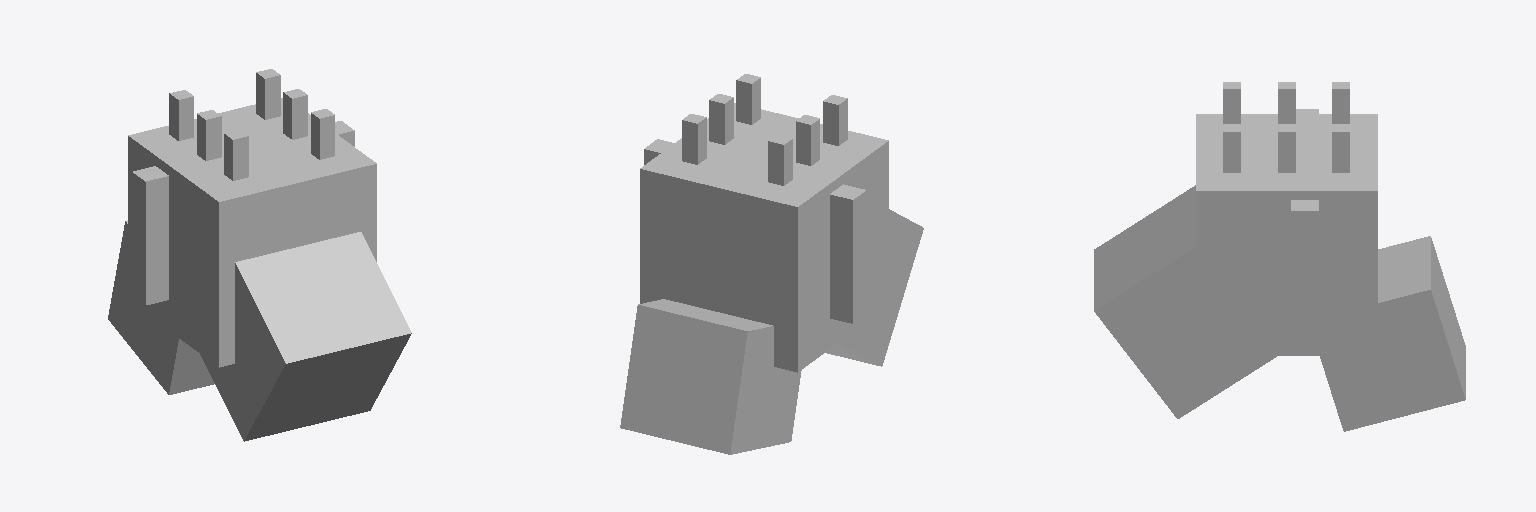
File: modelMinion.obj
3 views of the same model, side by side, from view 1: azimuth 30°, elevation 25°; view 2: azimuth 150°, elevation 25°; view 3: azimuth 270°, elevation 25° (orthographic).
Parts seen in each view (by area): view 1: Body, Head, ArmRight, LegRightFront, LegLeftFront, LegRightMiddle, LegRightBack, LegLeftMiddle, LegLeftback_LegLeftBack; view 2: Body, Head, ArmRight, LegRightBack, LegRightFront, LegLeftback_LegLeftBack, LegLeftMiddle, LegLeftFront, LegRightMiddle; view 3: Body, Head, ArmLeft, LegLeftback_LegLeftBack, LegLeftMiddle, LegLeftFront, LegRightMiddle, LegRightFront, LegRightBack.
Boxes of the visible parts, box(x1,y1,x2,y2) form: Body: box(128, 98, 411, 441); Head: box(108, 220, 214, 394); ArmRight: box(132, 166, 168, 305); LegRightFront: box(169, 90, 193, 140); LegLeftFront: box(256, 69, 280, 119); LegRightMiddle: box(197, 110, 221, 160); LegRightBack: box(224, 130, 248, 180); LegLeftMiddle: box(283, 89, 307, 139); LegLeftback_LegLeftBack: box(311, 109, 334, 159); Body: box(640, 103, 923, 372); Head: box(620, 299, 801, 454); ArmRight: box(830, 184, 866, 323); LegRightBack: box(823, 95, 847, 145); LegRightFront: box(768, 135, 792, 185); LegLeftback_LegLeftBack: box(736, 74, 760, 124); LegLeftMiddle: box(709, 94, 733, 144); LegLeftFront: box(682, 114, 706, 164); LegRightMiddle: box(796, 115, 819, 165); Body: box(1094, 114, 1377, 418); Head: box(1320, 236, 1465, 431); ArmLeft: box(1291, 200, 1318, 334); LegLeftback_LegLeftBack: box(1223, 124, 1240, 172); LegLeftMiddle: box(1278, 124, 1295, 172); LegLeftFront: box(1332, 124, 1349, 172); LegRightMiddle: box(1278, 82, 1295, 123); LegRightFront: box(1332, 82, 1349, 123); LegRightBack: box(1223, 82, 1240, 123).
Size of the model in its own units: 0.53 by 0.7221 by 0.8153.